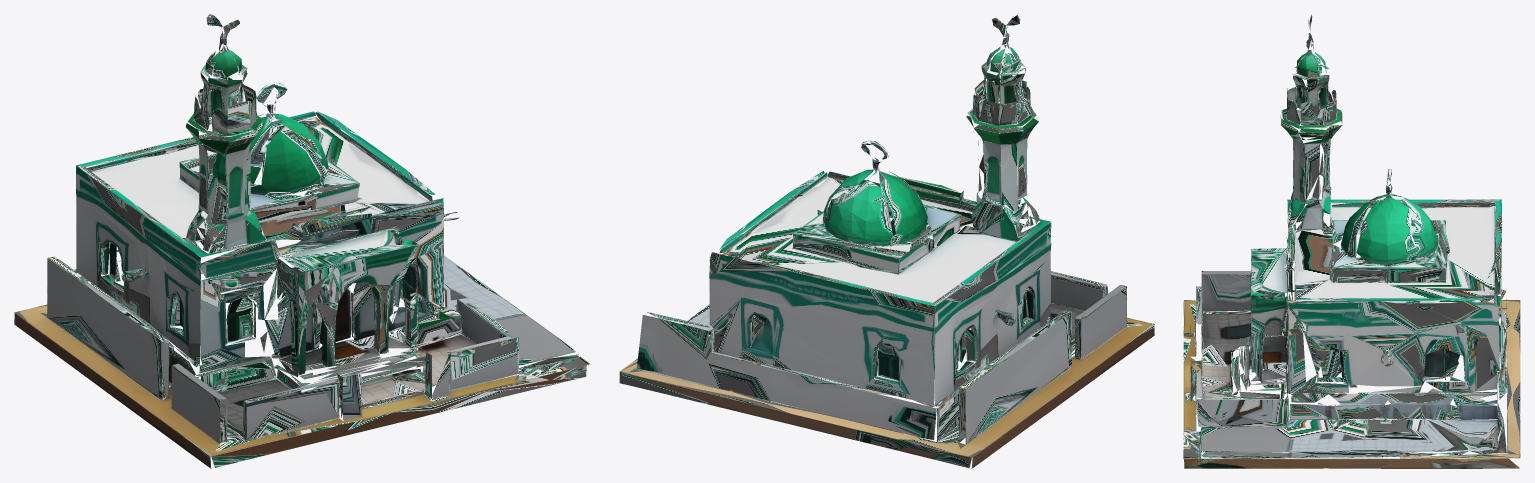
File: masjid.glb
3 views of the same model, side by side, from view 1: azimuth 30°, elevation 25°; view 2: azimuth 150°, elevation 25°; view 3: azimuth 270°, elevation 25° (orthographic). The views are drawn at different scales.
Visible parts, largest first — view 1: world; view 2: world; view 3: world.
Boxes of the visible parts, box(x1,y1,x2,y2) form: world: box(14, 14, 589, 468); world: box(619, 15, 1154, 468); world: box(1183, 14, 1520, 468).
Size of the model in its own units: 1 by 0.9635 by 0.8988.
Materials: 1 (1 with a texture image).
